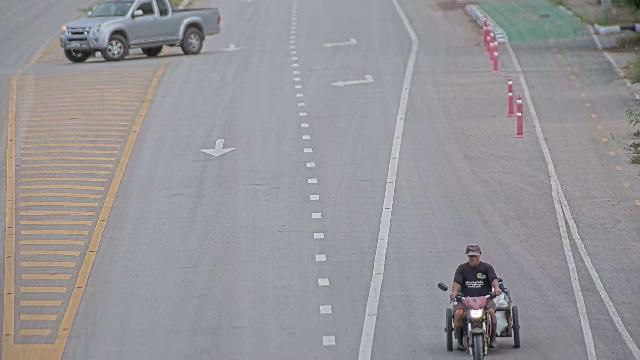motorcycle: (449, 237, 504, 359)
pickup-truck: (59, 0, 222, 63)
